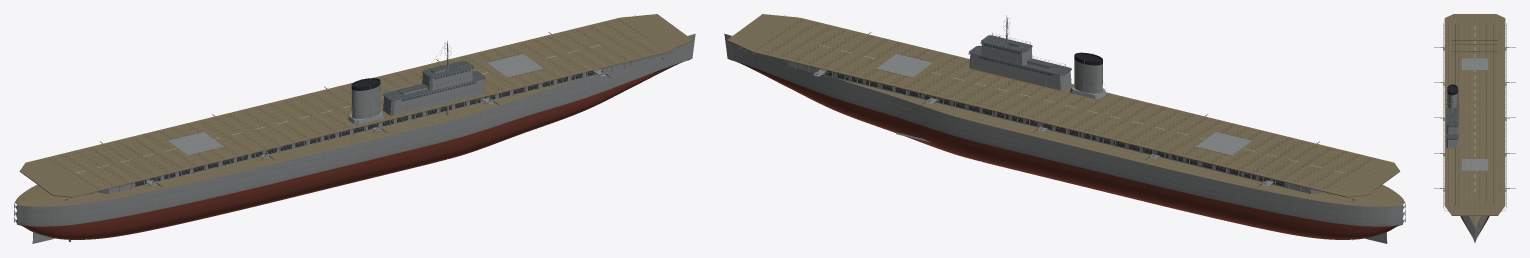
Rendered from ocean_cv30.glb.
3 views of the same model, side by side, from view 1: azimuth 30°, elevation 25°; view 2: azimuth 150°, elevation 25°; view 3: azimuth 270°, elevation 25° (orthographic). The views are drawn at different scales.
Visible parts, largest first — view 1: Krasny Okean carrier; view 2: Krasny Okean carrier; view 3: Krasny Okean carrier.
Part boxes in pixels (<box>): Krasny Okean carrier: <box>14,14,695,243</box>; Krasny Okean carrier: <box>724,14,1405,243</box>; Krasny Okean carrier: <box>1434,14,1515,242</box>.
Size of the model in its own units: 243 by 41.41 by 39.22.
9 materials, 8 textured.
